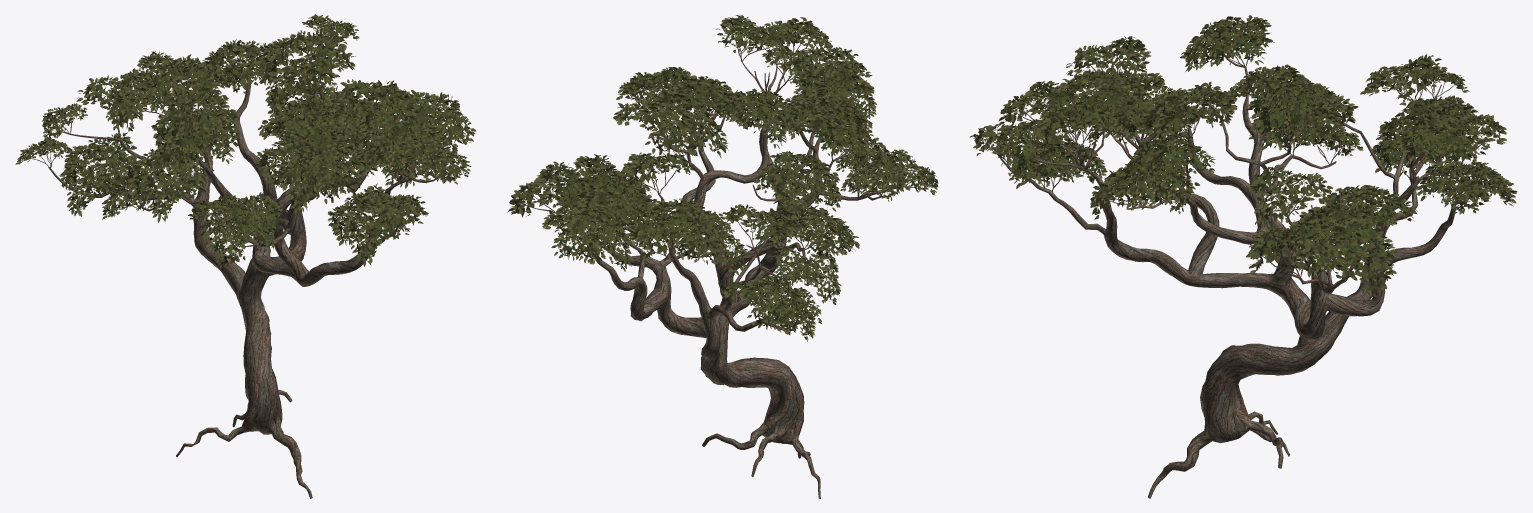
File: sceen_3_part2_pohon_bagian3_1_baris_bawah_1.glb
3 views of the same model, side by side, from view 1: azimuth 30°, elevation 25°; view 2: azimuth 150°, elevation 25°; view 3: azimuth 270°, elevation 25° (orthographic). The views are drawn at different scales.
Visible parts, largest first — view 1: old tree_leaf old tree_0, old tree_old treetop_0, old tree_oldtrunk_0; view 2: old tree_leaf old tree_0, old tree_old treetop_0, old tree_oldtrunk_0; view 3: old tree_leaf old tree_0, old tree_old treetop_0, old tree_oldtrunk_0.
Boxes of the visible parts, bbox=[...] form: old tree_leaf old tree_0: bbox=[15, 14, 476, 267]; old tree_old treetop_0: bbox=[21, 17, 470, 264]; old tree_oldtrunk_0: bbox=[26, 22, 461, 498]; old tree_leaf old tree_0: bbox=[507, 15, 938, 341]; old tree_old treetop_0: bbox=[514, 18, 934, 335]; old tree_oldtrunk_0: bbox=[526, 32, 926, 498]; old tree_leaf old tree_0: bbox=[970, 15, 1517, 296]; old tree_old treetop_0: bbox=[975, 20, 1511, 293]; old tree_oldtrunk_0: bbox=[985, 22, 1484, 498].
Bounding box in the file's own units: 5.68 × 6.32 × 6.85.
3 materials, 3 textured.
